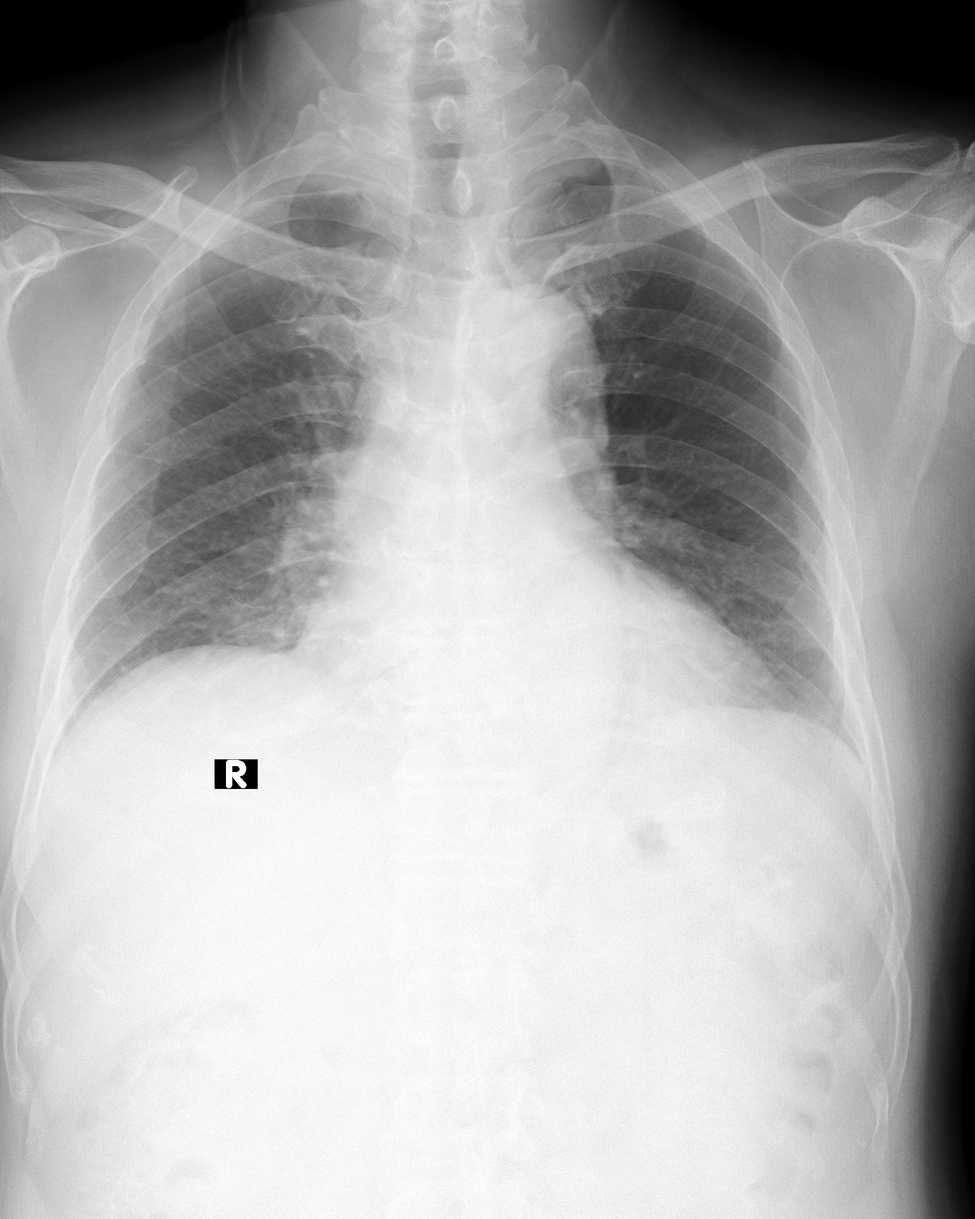Aortic enlargement: (454, 283, 606, 405)
Cardiomegaly: (287, 597, 786, 706)
Pulmonary fibrosis: (138, 357, 203, 385), (110, 449, 167, 463)
